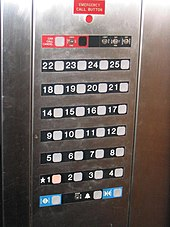button: (73, 1, 106, 24), (41, 32, 66, 50), (65, 59, 88, 72), (42, 83, 65, 96), (102, 186, 124, 199), (108, 81, 130, 93), (41, 129, 63, 141), (39, 194, 61, 206), (42, 60, 65, 71), (41, 107, 64, 118), (88, 59, 109, 71), (66, 82, 87, 94), (87, 82, 108, 94), (109, 59, 130, 70), (65, 106, 86, 117), (64, 128, 85, 139), (87, 105, 107, 116), (86, 127, 106, 138), (40, 174, 61, 184), (108, 104, 127, 115), (82, 190, 102, 200), (107, 126, 126, 136), (46, 152, 63, 163), (68, 150, 84, 161), (109, 167, 124, 178), (67, 172, 83, 182), (109, 147, 125, 156), (88, 170, 104, 179), (89, 149, 104, 158)
